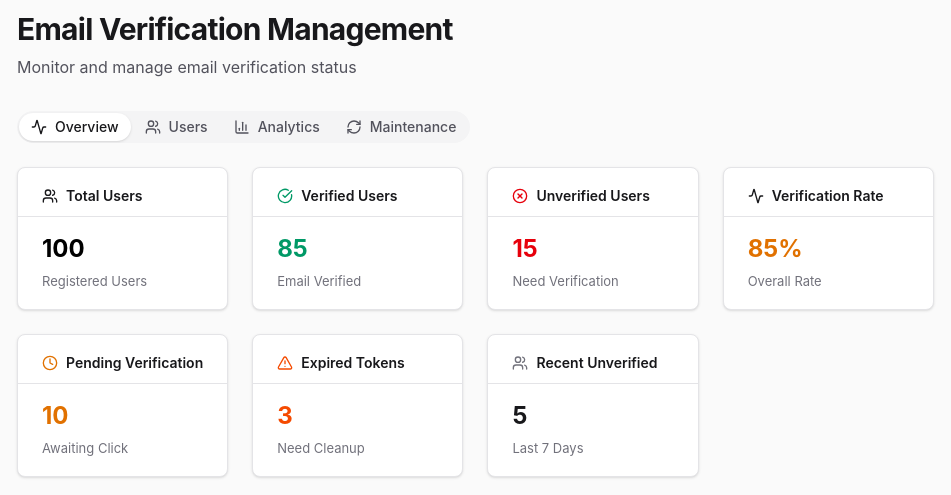
Test: EmailVerificationManagement › Users Tab › should show empty state when no unverified users
Expected: the heading "Total Users" is shown, x1=42 y1=187 x2=142 y2=204
Click the button "Users" at x=176, y=127, box x1=132 y1=113 x2=220 y2=141
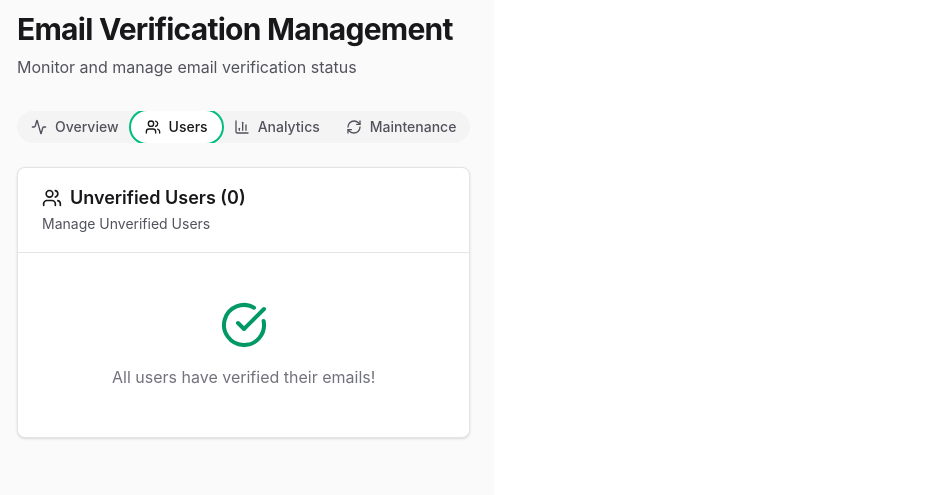
Expected: the text "All users have verified their emails!" is shown, x1=112 y1=367 x2=375 y2=387
